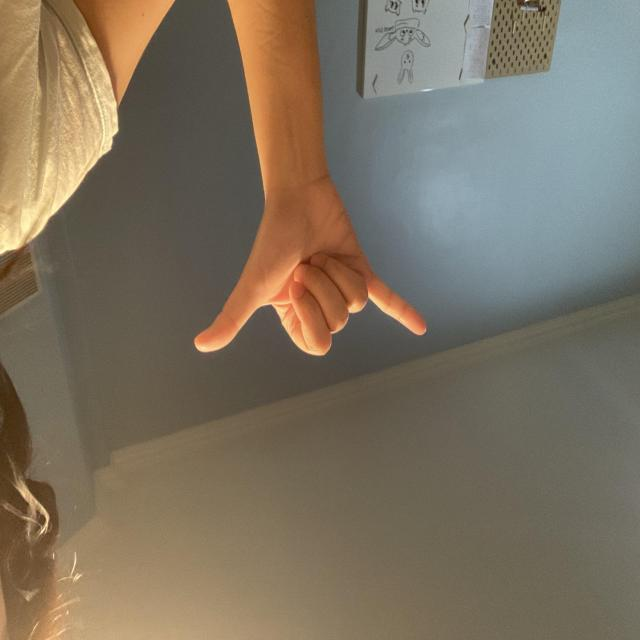Y: (213, 284, 447, 463)
